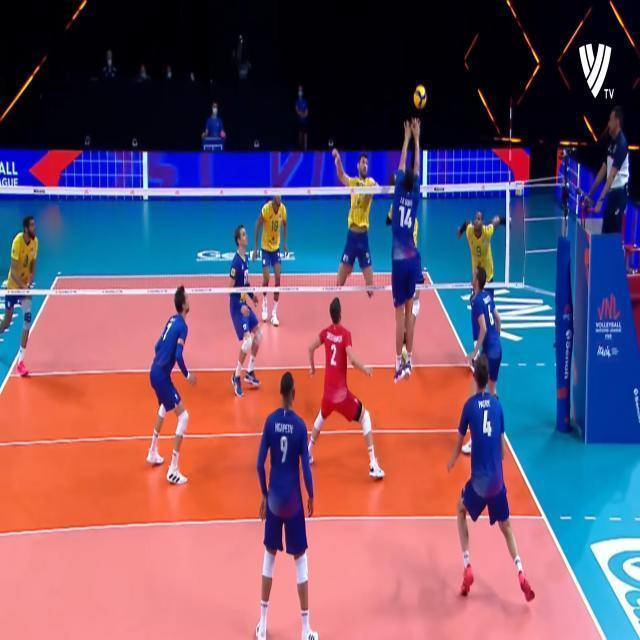volleyball: (414, 84, 426, 110)
